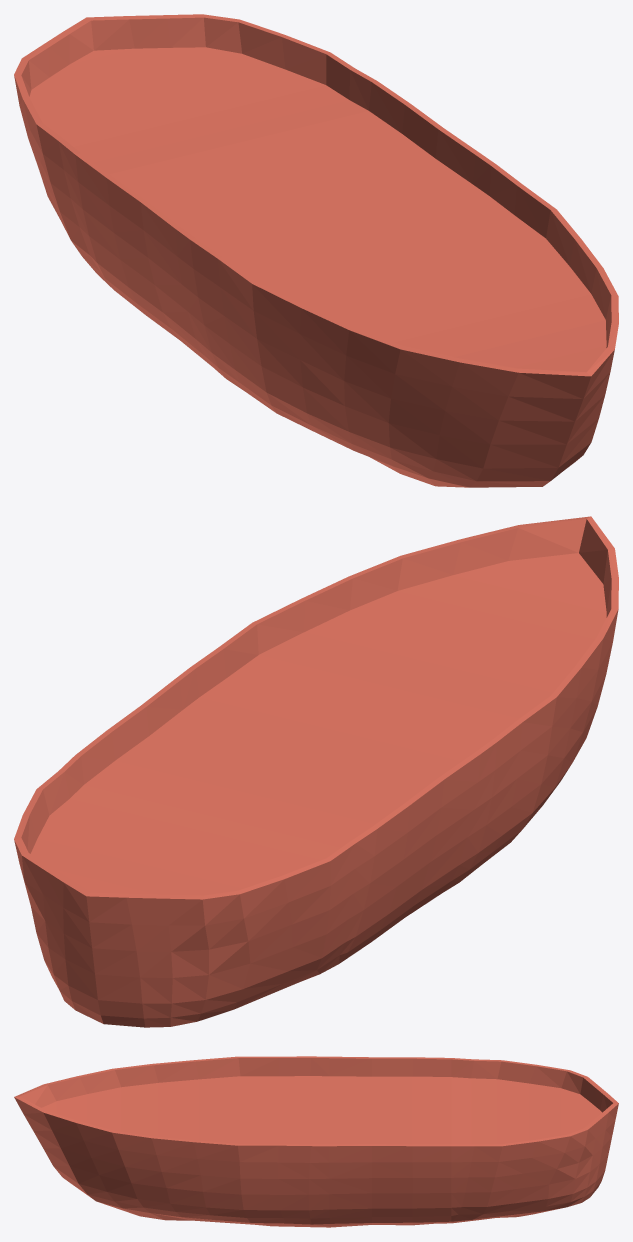
Rendered from HMS Suffed.fbx.
3 views of the same model, one above another, from view 1: azimuth 30°, elevation 25°; view 2: azimuth 150°, elevation 25°; view 3: azimuth 270°, elevation 25° (orthographic). The views are drawn at different scales.
Visible parts, largest first — view 1: Boat; view 2: Boat; view 3: Boat.
Part boxes in pixels (left/top/right/bottom): Boat: left=14, top=14, right=618, bottom=487; Boat: left=14, top=516, right=618, bottom=1027; Boat: left=14, top=1056, right=618, bottom=1227.
Bounding box in the file's own units: 189 × 107 × 538.
